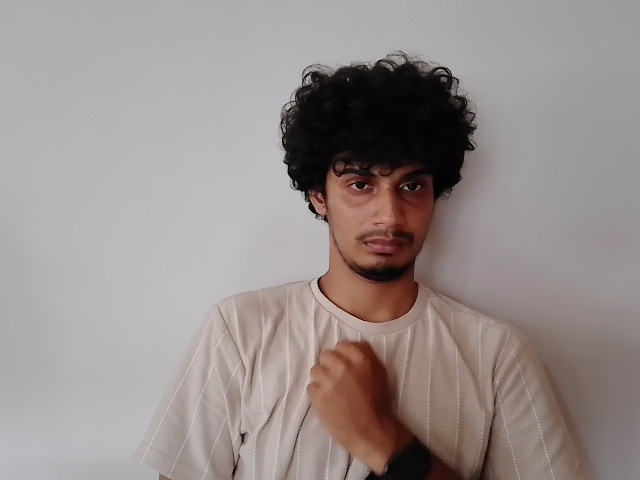sorry: (161, 288, 397, 445)
